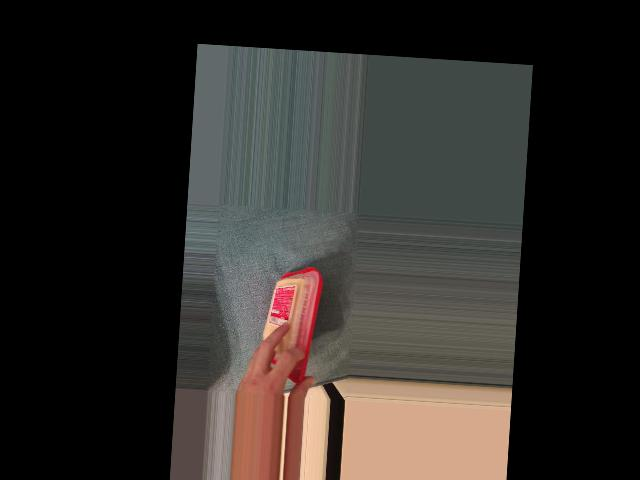cheese: (250, 262, 325, 386)
